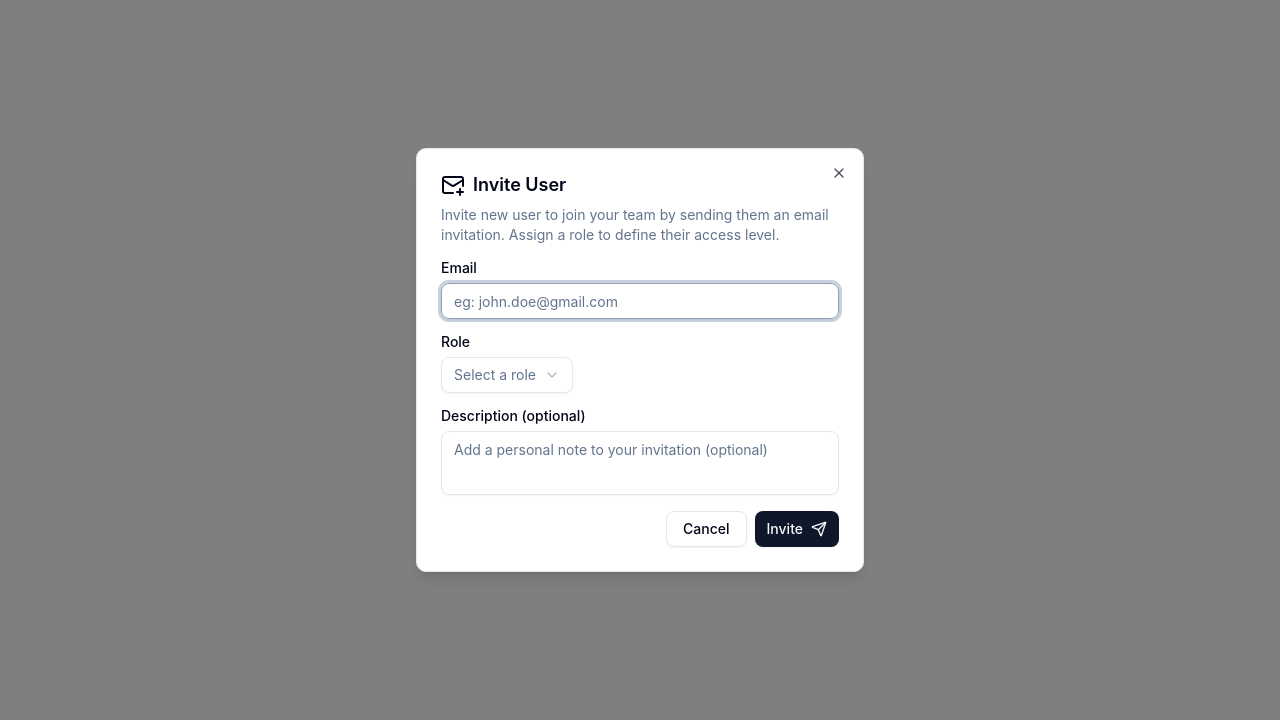
UsersInviteDialog › shows error messages when submitting empty form, and clears them as fields are filled
Later steps or results of the test are not shown.
Click the button "Invite" at (797, 529), box top-left (754, 511), bottom-right (839, 547)
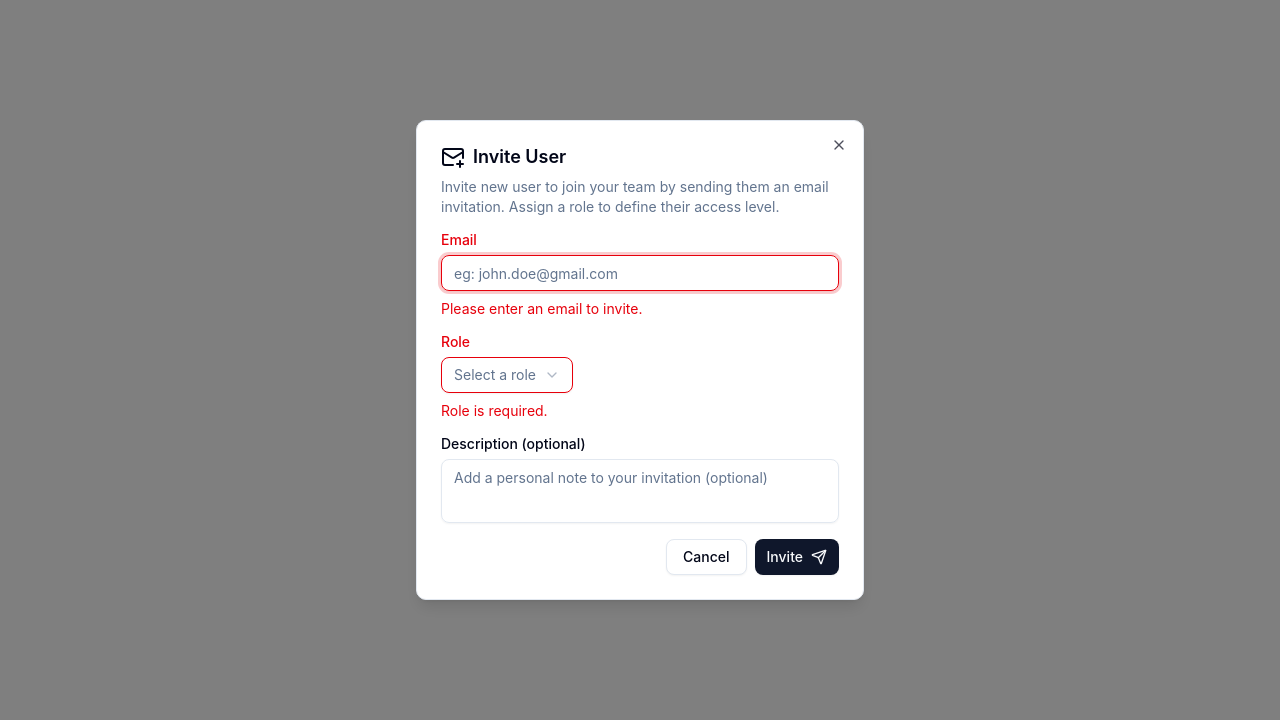
Expected: the text "Please enter an email to invite." is shown, top-left (441, 300), bottom-right (642, 317)
Expected: the text "Role is required." is shown, top-left (441, 402), bottom-right (548, 419)
